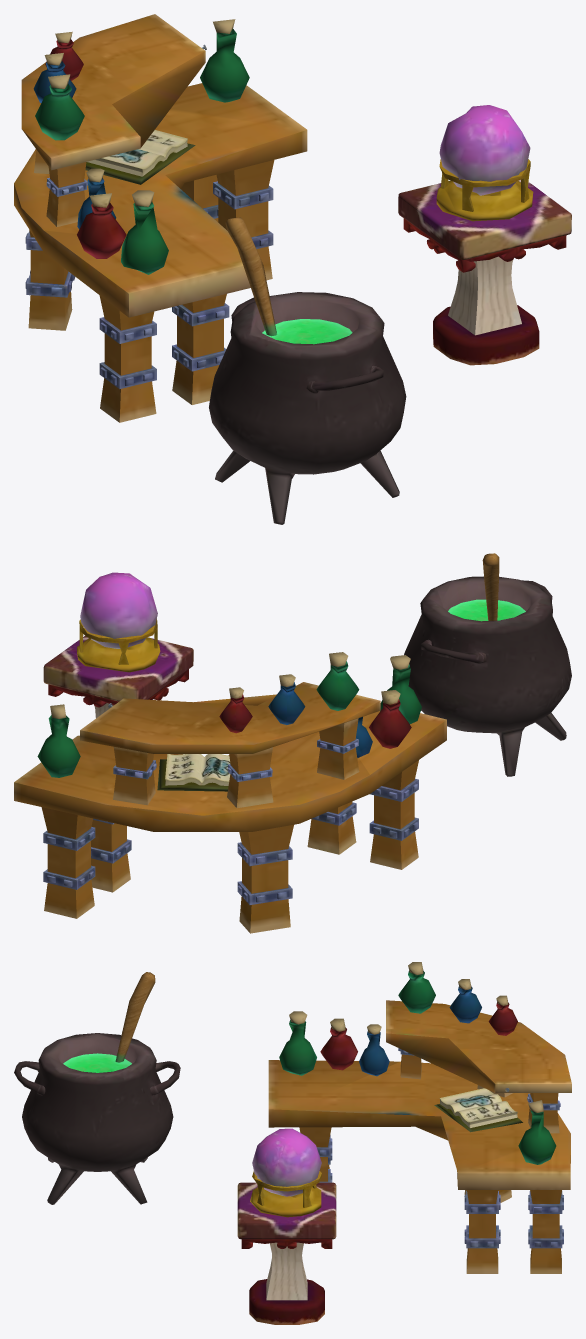
Rendered from PRP_PotionTable_lod.glb.
3 views of the same model, one above another, from view 1: azimuth 30°, elevation 25°; view 2: azimuth 150°, elevation 25°; view 3: azimuth 270°, elevation 25° (orthographic). The views are drawn at different scales.
Visible parts, largest first — view 1: AlchemyTable, Cauldron, CrystalBallTable, CrystalBall, CrystalBallStand, Book, TallPotion1, TallPotion3, Potion1, Potion4, Potion2, Potion3 (+1 smaller); view 2: AlchemyTable, Cauldron, CrystalBallTable, CrystalBall, CrystalBallStand, Book, TallPotion3, Potion1, Potion4, TallPotion1, Potion2, Potion3; view 3: AlchemyTable, Cauldron, CrystalBallTable, CrystalBall, Book, CrystalBallStand, TallPotion1, TallPotion3, Potion4, Potion1, TallPotion2, Potion2 (+1 smaller).
Boxes of the visible parts, box(x1,y1,x2,y2) form: AlchemyTable: box(14, 14, 307, 422); Cauldron: box(209, 217, 406, 524); CrystalBallTable: box(398, 180, 571, 365); CrystalBall: box(439, 105, 530, 195); CrystalBallStand: box(436, 159, 533, 221); Book: box(85, 130, 195, 184); TallPotion1: box(121, 190, 168, 274); TallPotion3: box(200, 19, 249, 102); Potion1: box(35, 74, 84, 140); Potion4: box(77, 193, 126, 258); Potion2: box(33, 53, 76, 102); Potion3: box(45, 31, 83, 80); AlchemyTable: box(14, 682, 446, 933); Cauldron: box(404, 553, 571, 776); CrystalBallTable: box(43, 635, 193, 718); CrystalBall: box(80, 572, 157, 648); CrystalBallStand: box(77, 619, 160, 672); Book: box(157, 754, 230, 791); TallPotion3: box(37, 704, 80, 777); Potion1: box(316, 652, 359, 710); Potion4: box(369, 690, 411, 748); TallPotion1: box(380, 655, 421, 723); Potion2: box(268, 674, 305, 724); Potion3: box(219, 687, 252, 733); AlchemyTable: box(268, 1000, 571, 1273); Cauldron: box(14, 972, 180, 1204); CrystalBallTable: box(237, 1182, 336, 1324); CrystalBall: box(252, 1128, 321, 1196); Book: box(434, 1088, 522, 1132); CrystalBallStand: box(250, 1171, 321, 1217); TallPotion1: box(279, 1011, 316, 1075); TallPotion3: box(518, 1100, 556, 1164); Potion4: box(320, 1018, 357, 1070); Potion1: box(398, 962, 435, 1013); TallPotion2: box(359, 1024, 389, 1076); Potion2: box(449, 979, 481, 1023).
Bounding box in the file's own units: 10.3 × 6.33 × 14.73.
Materials: 3 (3 with a texture image).
